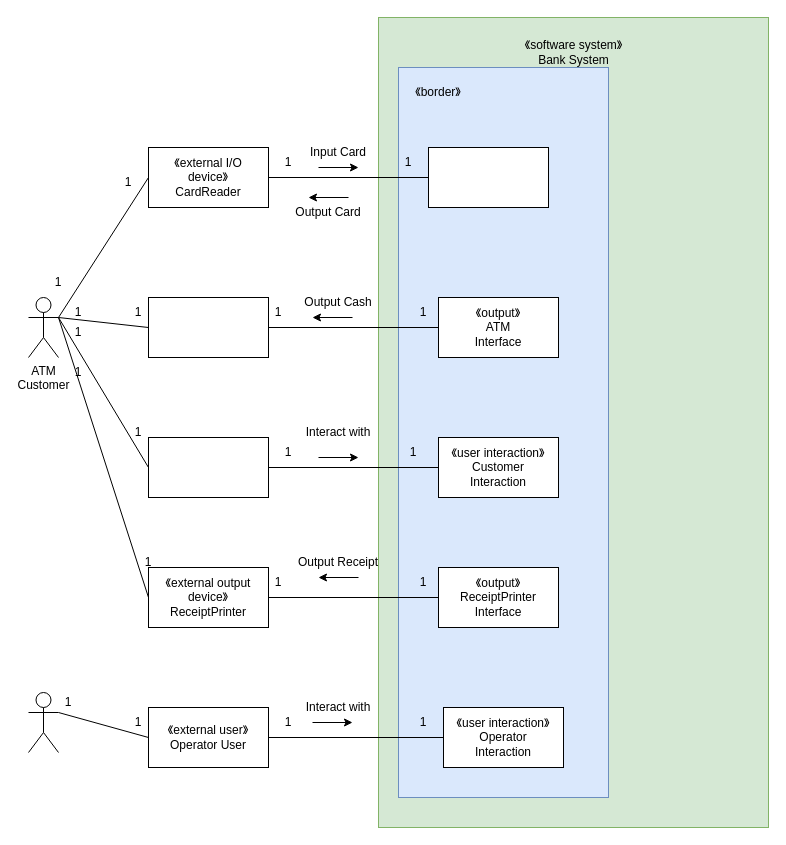
Image size: 786x845. Some labels were removed from this diagram. The centre of each missing label's shape, as x and y in pixels:
ATM Operator: [43,722]
《external output device》 ATM: [208,327]
《external user》 Keyboard: [208,467]
《input/output》 CardReader Interface: [488,177]
